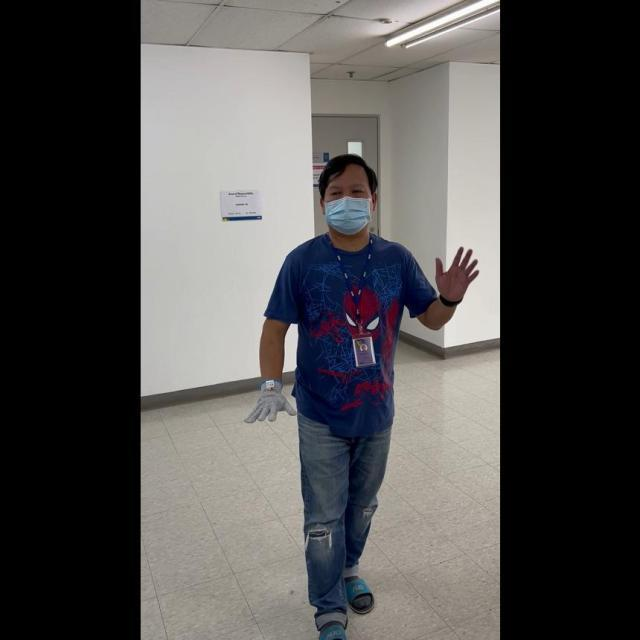bare_hand: (432, 241, 479, 301)
gloved_hand: (242, 377, 299, 426)
